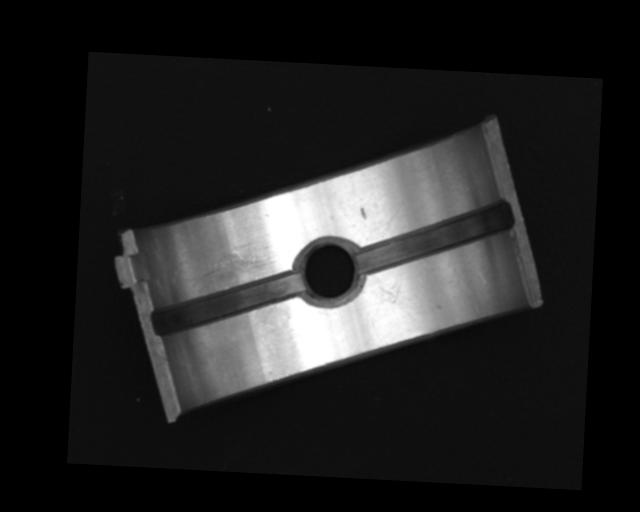bruise: (358, 205, 367, 220)
gap: (356, 192, 512, 281), (150, 267, 303, 344)
hole: (294, 236, 364, 308)
scratch: (185, 247, 276, 296)
